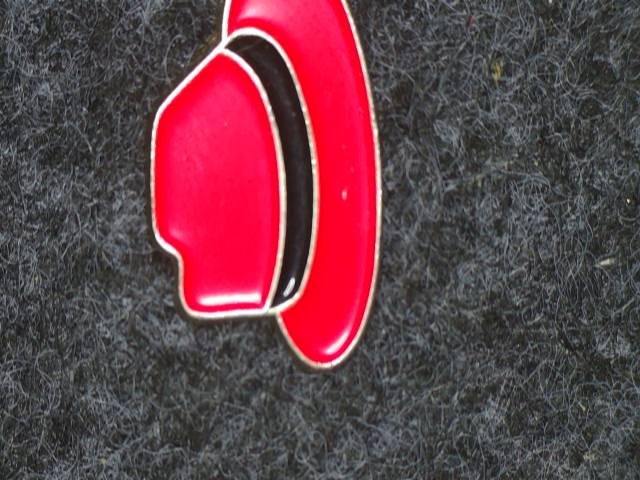Red-Hat: (121, 0, 397, 410)
